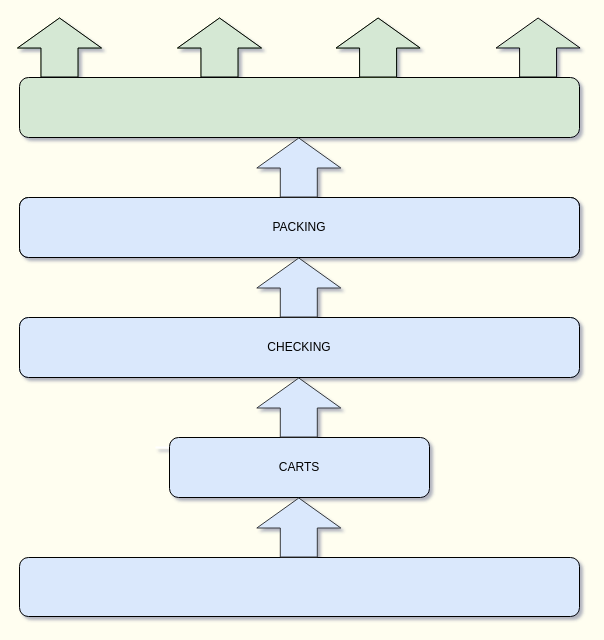
The diagram is 604 pixels wide and 640 high, and some of its shapes have lost their labels. The shapes that lost their labels are listed below. From the top down, each one's box as (x1, y1, x2, y2) in pixels, then its label:
(18, 76, 580, 138): DOCKS
(18, 556, 580, 616): PICKING
